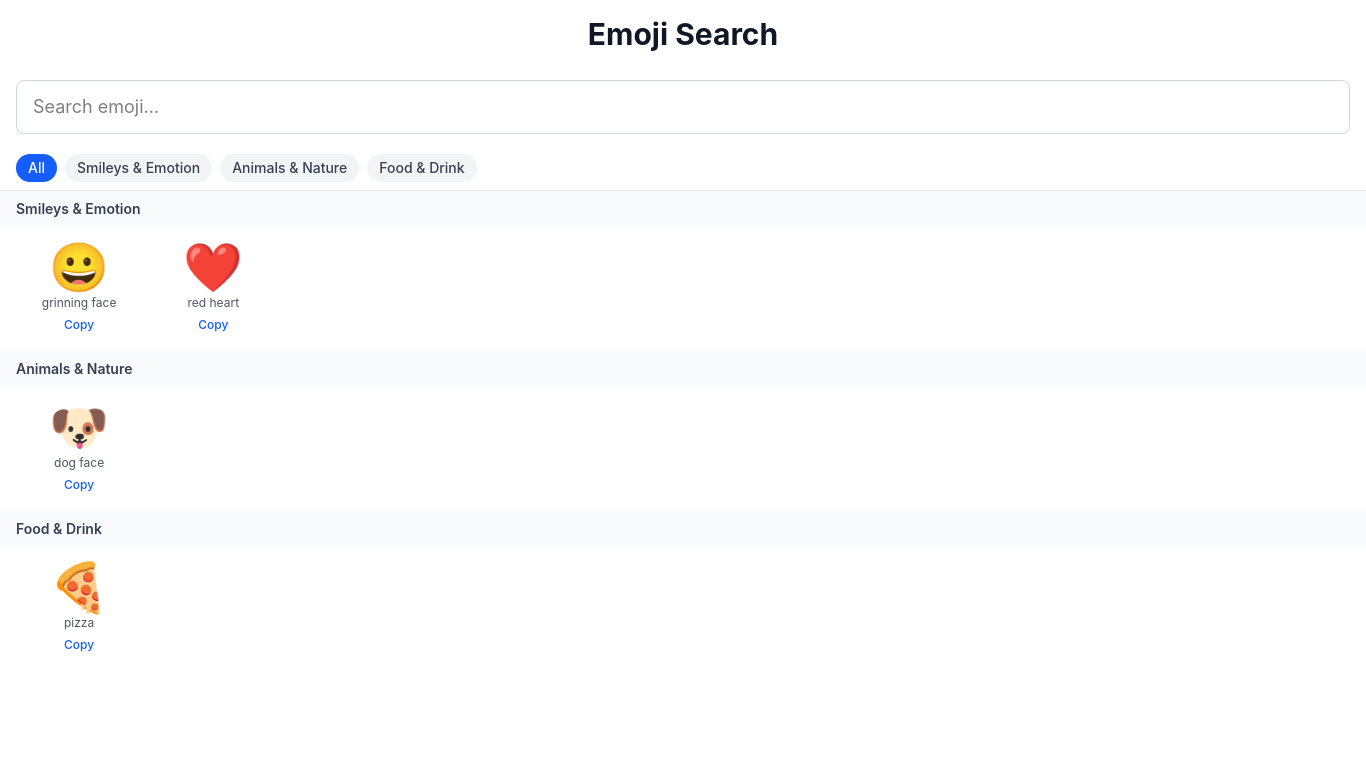
Scenario: App component › shows all categories when "All" is clicked after filtering
This screenshot has width=1366, height=768.
Click the button "Animals & Nature".
click(290, 168)  # box [220,154,359,182]
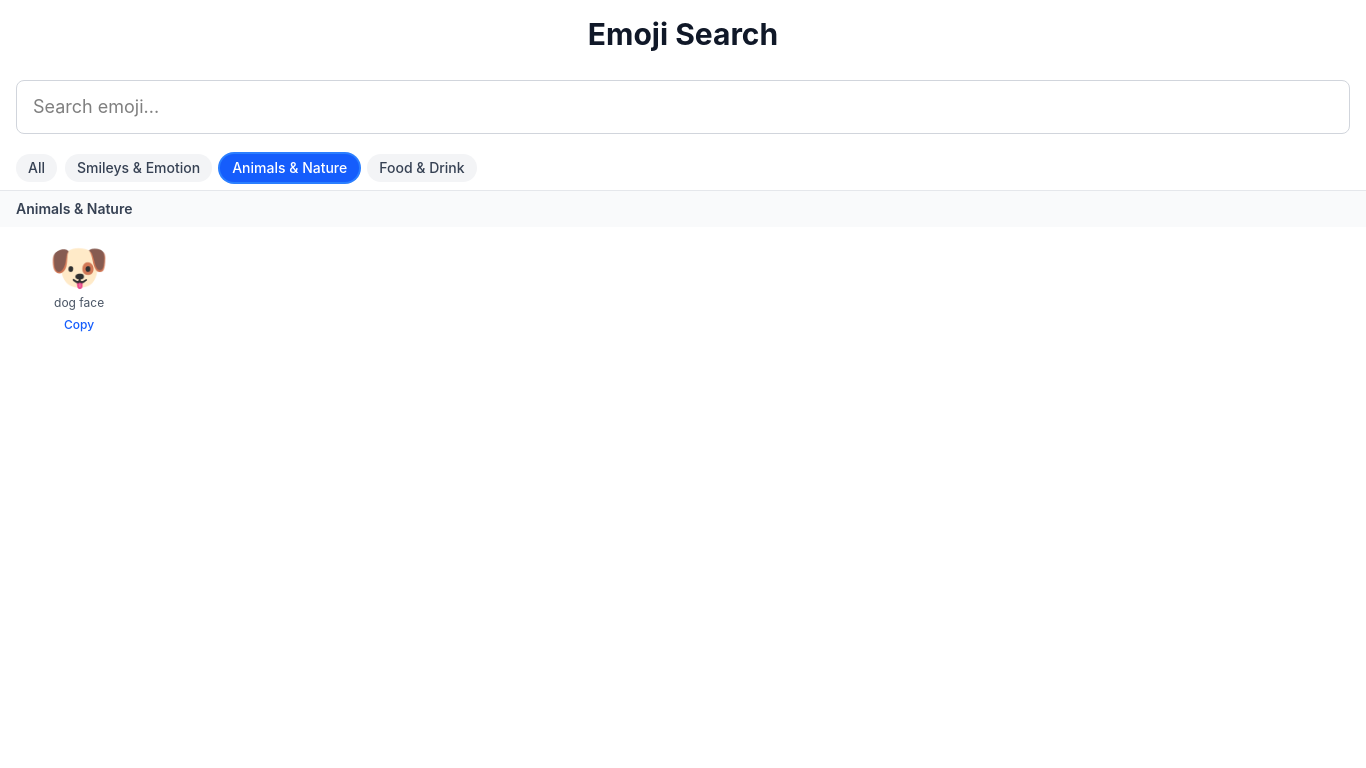
Click the button "All".
click(36, 168)  # box [16,154,57,182]
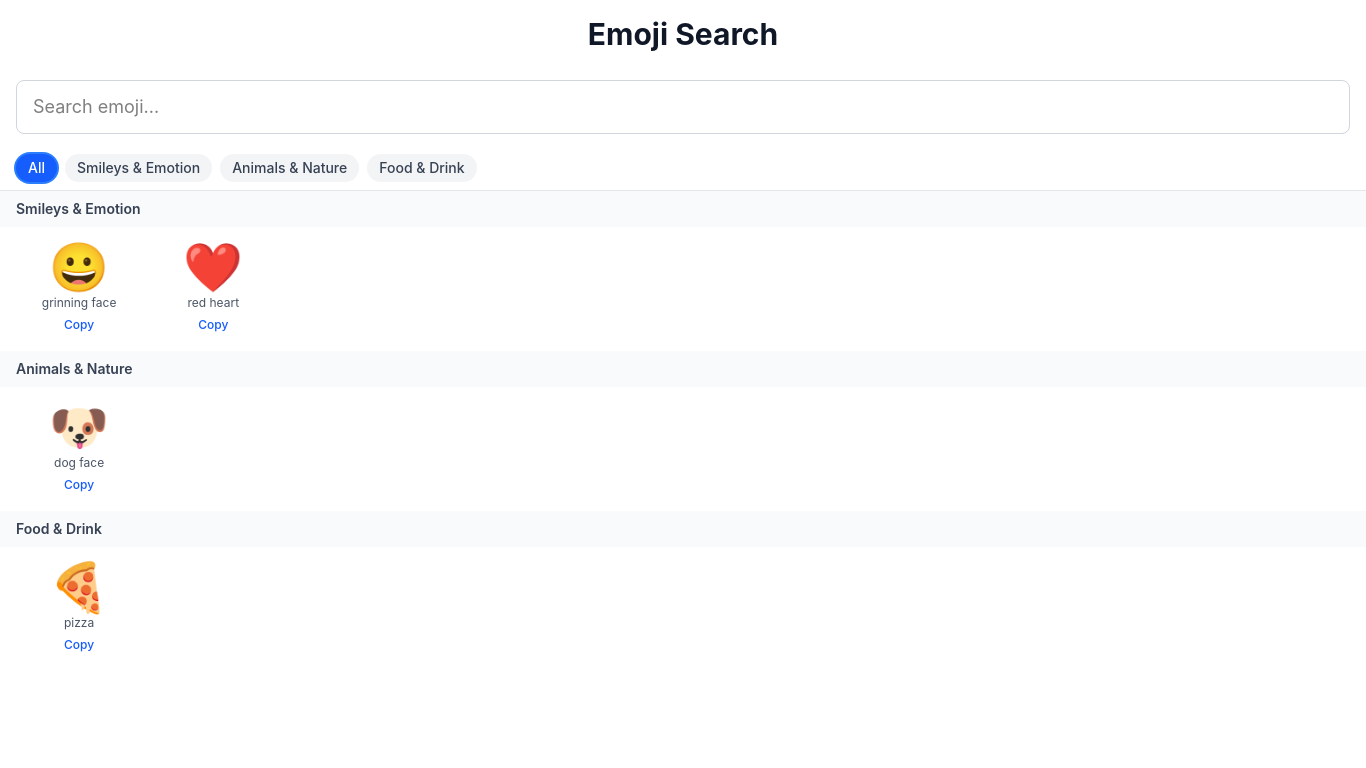
expect the heading "Animals & Nature" is shown: met, box [0,351,1365,387]
expect the heading "Smileys & Emotion" is shown: met, box [0,191,1365,227]
